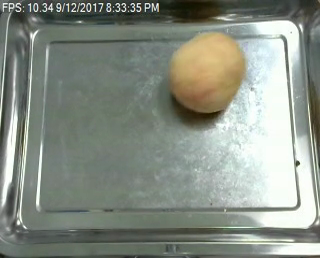Peach: (168, 30, 245, 113)
